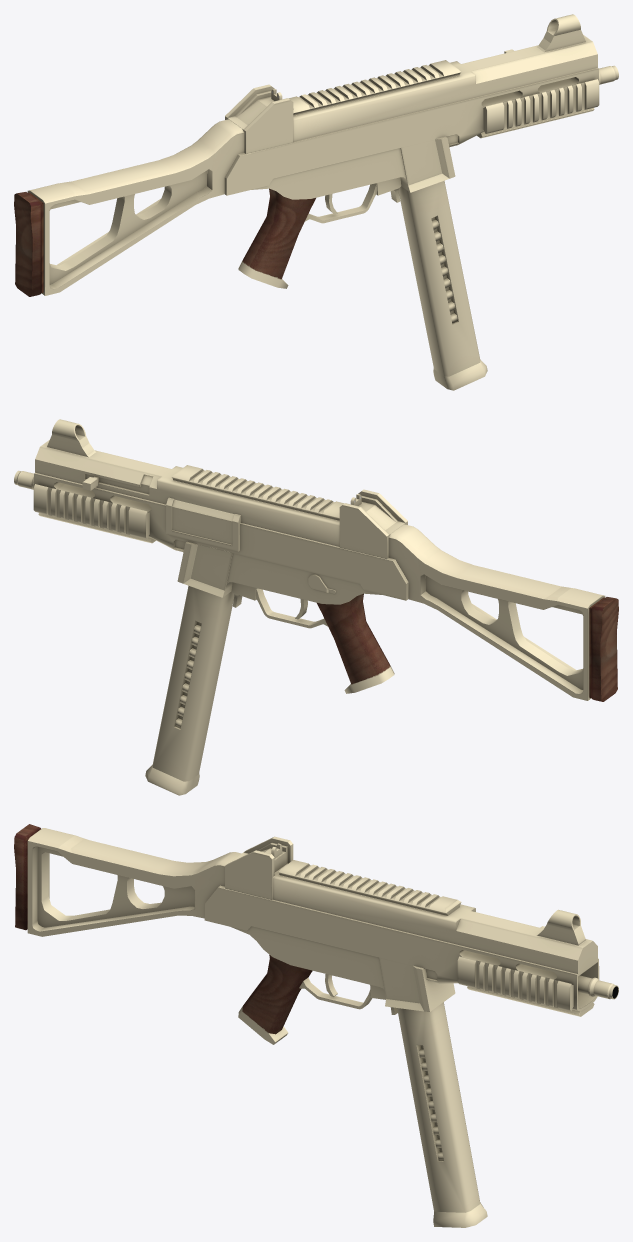
Rendered from weapon_4_9.gltf.
3 renders of one model, top to bottom at view 1: azimuth 30°, elevation 25°; view 2: azimuth 150°, elevation 25°; view 3: azimuth 330°, elevation 25°, orthographic.
Parts seen in each view (by area): view 1: Grip_Cube.040; view 2: Grip_Cube.040; view 3: Grip_Cube.040.
Boxes of the visible parts, bbox=[...] form: Grip_Cube.040: bbox=[14, 14, 618, 390]; Grip_Cube.040: bbox=[14, 419, 618, 795]; Grip_Cube.040: bbox=[14, 824, 618, 1227].
Bounding box in the file's own units: 9950 × 5408 × 982.
1 material, 1 textured.
